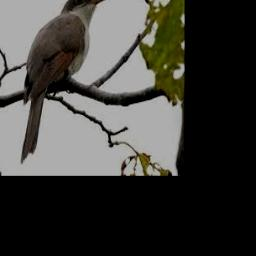Cuckoo: (21, 0, 110, 163)
